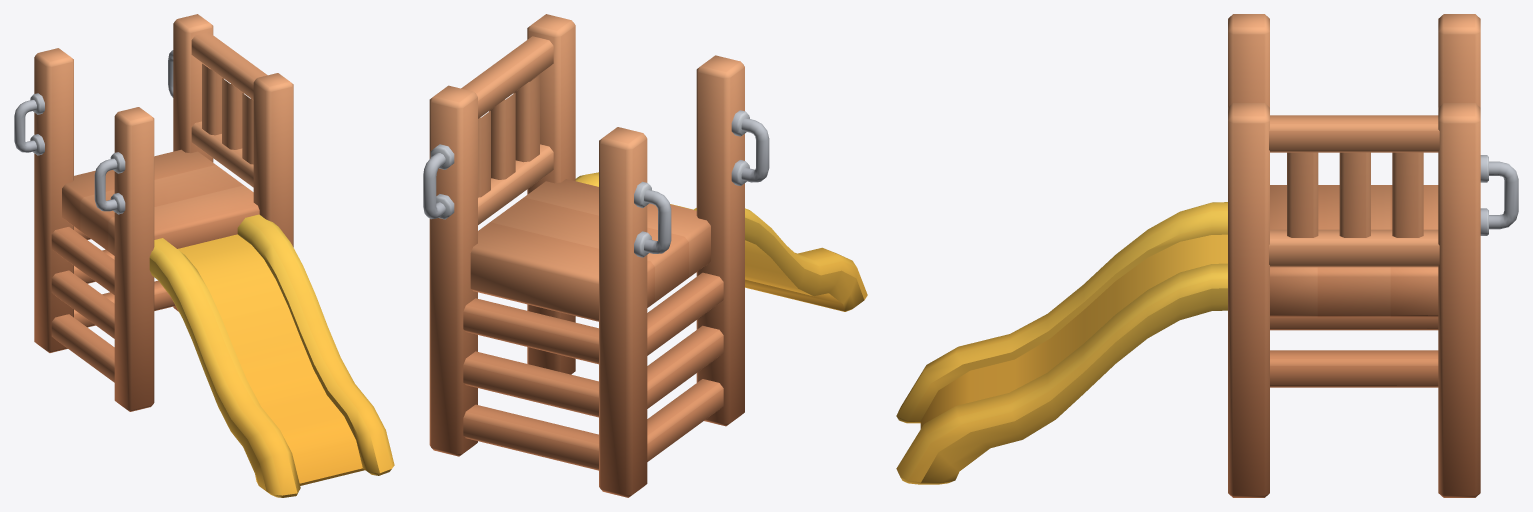
The model's file is slide_A.glb.
The picture shows the model from 3 angles, left to right: view 1: azimuth 30°, elevation 25°; view 2: azimuth 150°, elevation 25°; view 3: azimuth 270°, elevation 25°; orthographic projection. The views are drawn at different scales.
Visible parts, largest first — view 1: slide_A; view 2: slide_A; view 3: slide_A.
Boxes of the visible parts, box(x1,y1,x2,y2) form: slide_A: box(14, 14, 394, 497); slide_A: box(423, 14, 867, 497); slide_A: box(896, 14, 1518, 497).
Bounding box in the file's own units: 2.76 × 4 × 5.91.
1 material, 1 textured.
